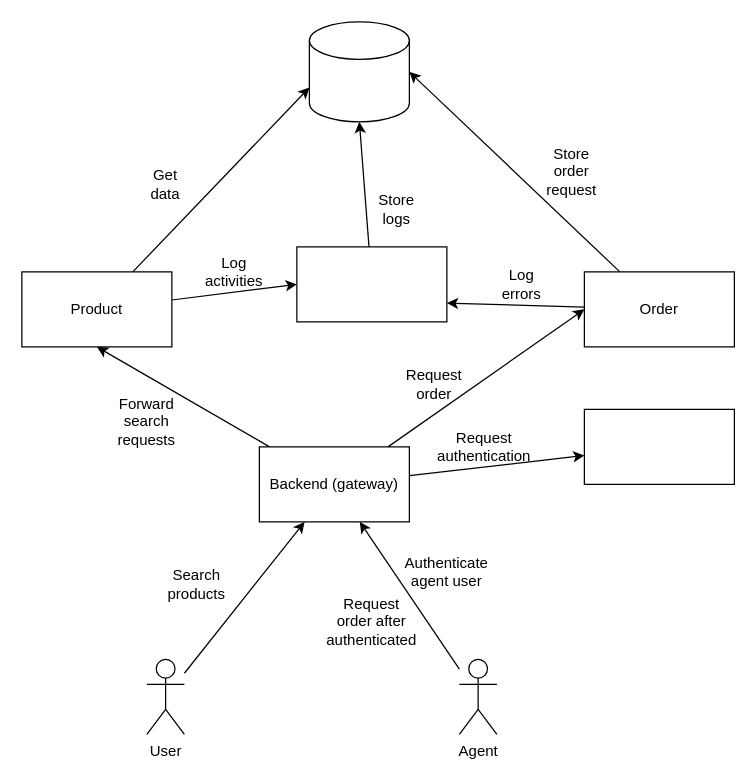
Some shapes in this 756 by 783 pixel diagram are drawn without their labels. Here are the shapes that lost their labels. From the top down, the centre of each, then its label:
At (x=358, y=71): "Database".
At (x=371, y=284): "Log".
At (x=658, y=446): "Auth".
